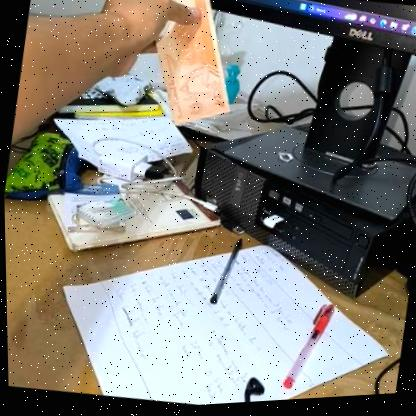twenty-back-vef: (137, 0, 248, 137)
